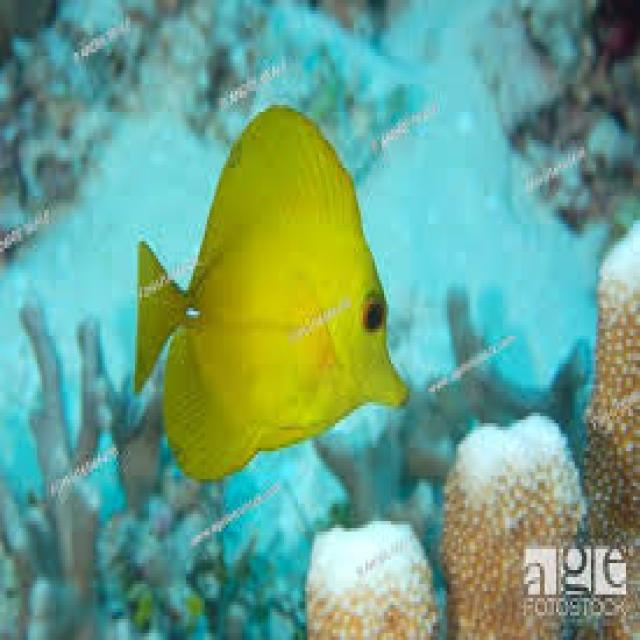YellowTang: (124, 91, 414, 490)
